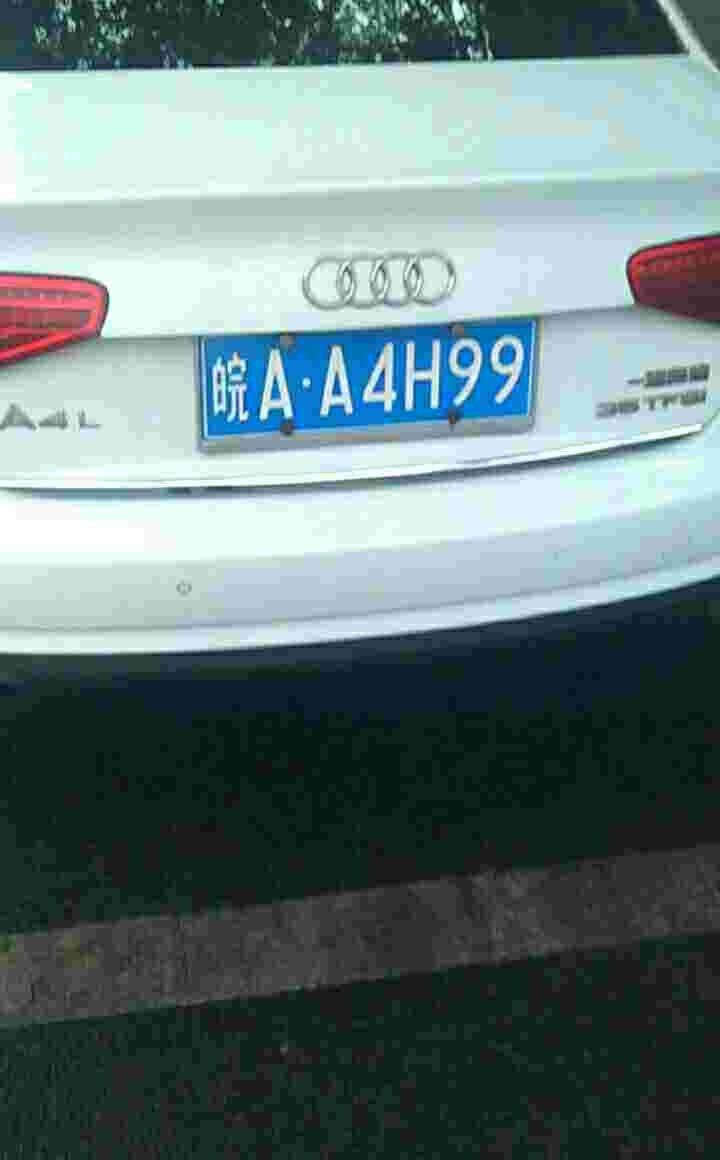license_plate: (207, 328, 547, 445)
